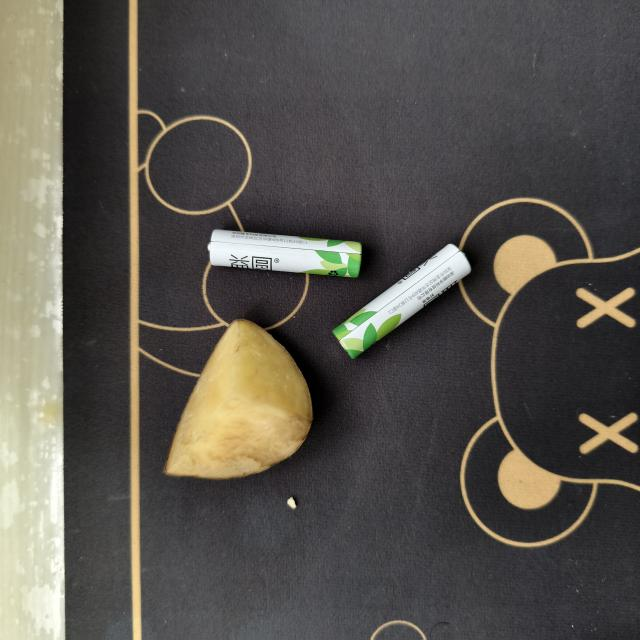-Hazardous waste - battery-: (330, 240, 474, 362), (206, 223, 365, 283)
-Kitchen waste - potato-: (165, 315, 311, 482)
